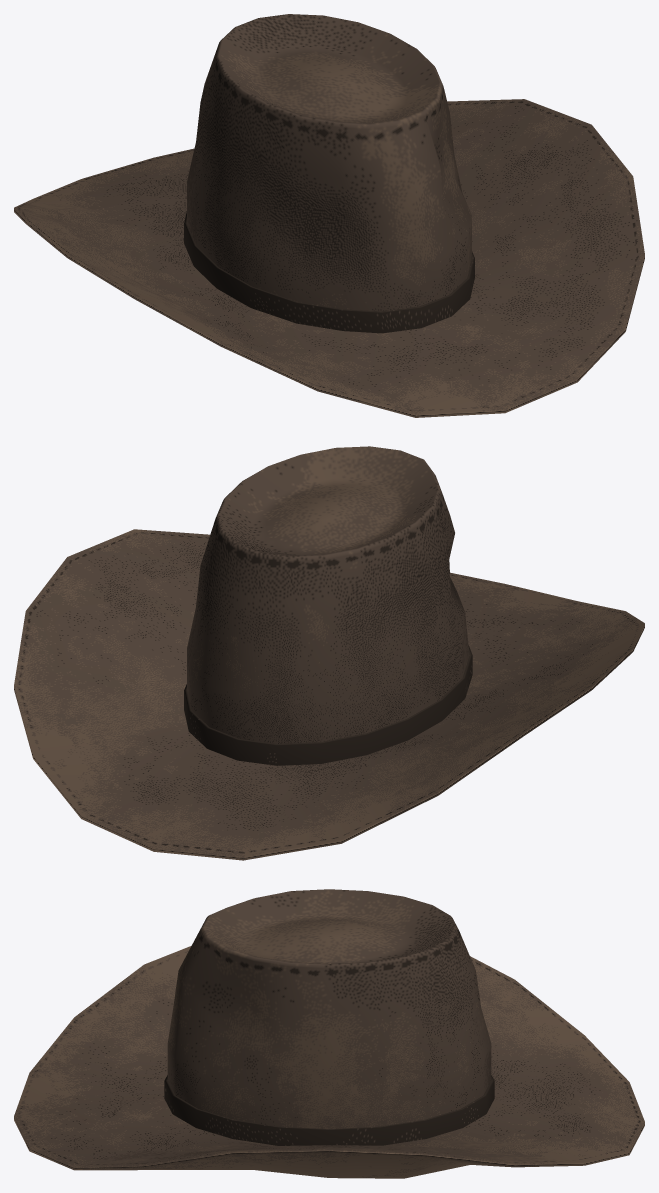
File: cowBoyHat.glb
3 renders of one model, top to bottom at view 1: azimuth 30°, elevation 25°; view 2: azimuth 150°, elevation 25°; view 3: azimuth 270°, elevation 25°, orthographic. The views are drawn at different scales.
Visible parts, largest first — view 1: SM_StetsonHat_LowPoly_1001_0; view 2: SM_StetsonHat_LowPoly_1001_0; view 3: SM_StetsonHat_LowPoly_1001_0.
Part boxes in pixels (box(x1,y1,x2,y2)): SM_StetsonHat_LowPoly_1001_0: box(14, 14, 644, 417); SM_StetsonHat_LowPoly_1001_0: box(14, 446, 644, 860); SM_StetsonHat_LowPoly_1001_0: box(14, 889, 644, 1178).
Bounding box in the file's own units: 10.75 × 4.35 × 12.48.
1 material, 1 textured.
